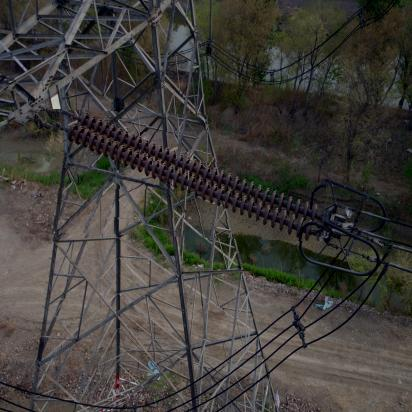insulator: (50, 113, 328, 241)
